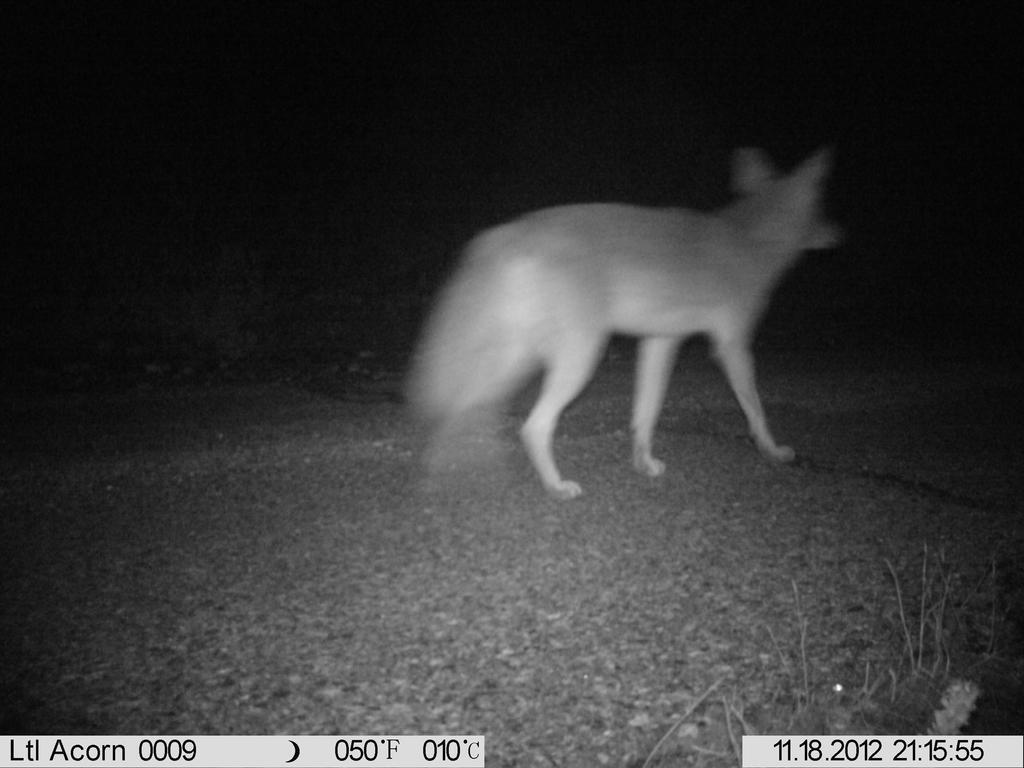coyote: (407, 116, 877, 513)
